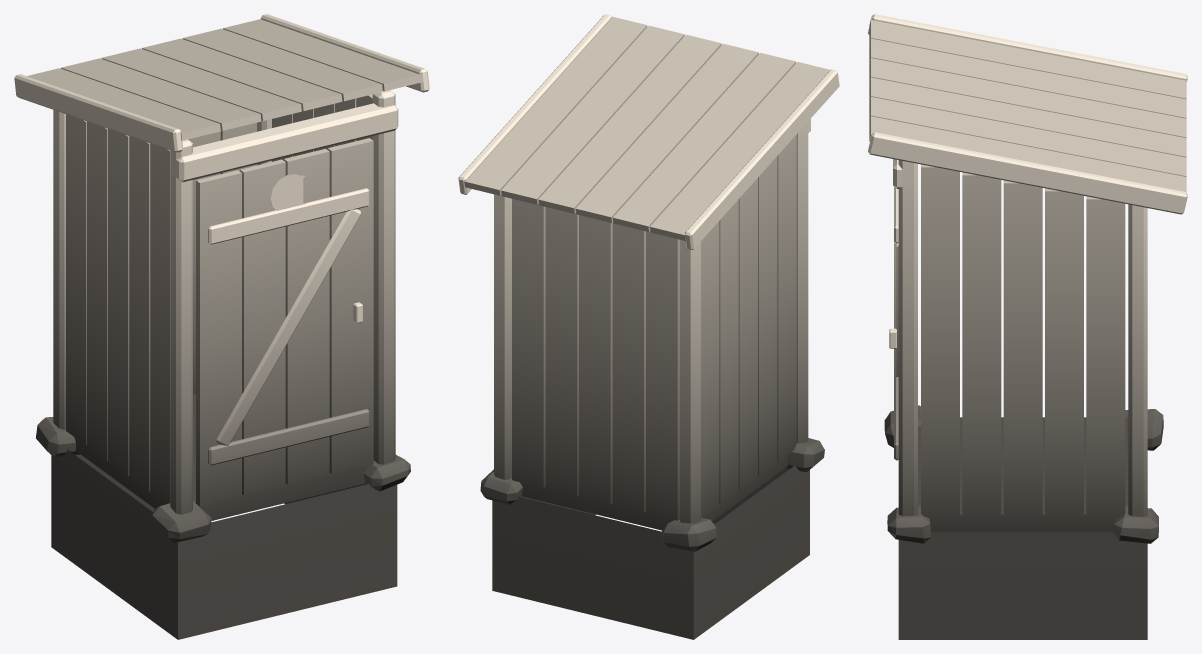
File: SM_VK_Prop_Privy.fbx
3 views of the same model, side by side, from view 1: azimuth 30°, elevation 25°; view 2: azimuth 150°, elevation 25°; view 3: azimuth 270°, elevation 25° (orthographic). The views are drawn at different scales.
Parts seen in each view (by area): view 1: SM_VK_Prop_Privy.001; view 2: SM_VK_Prop_Privy.001; view 3: SM_VK_Prop_Privy.001.
Boxes of the visible parts, x1=… form: SM_VK_Prop_Privy.001: x1=14, y1=14, x2=429, y2=639; SM_VK_Prop_Privy.001: x1=458, y1=14, x2=839, y2=639; SM_VK_Prop_Privy.001: x1=868, y1=14, x2=1187, y2=639.
Size of the model in its own units: 1.51 by 2.96 by 1.67.
